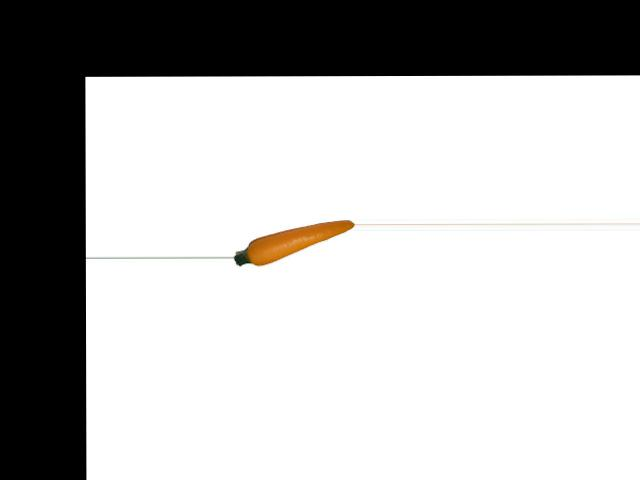carrot: (233, 220, 353, 266)
